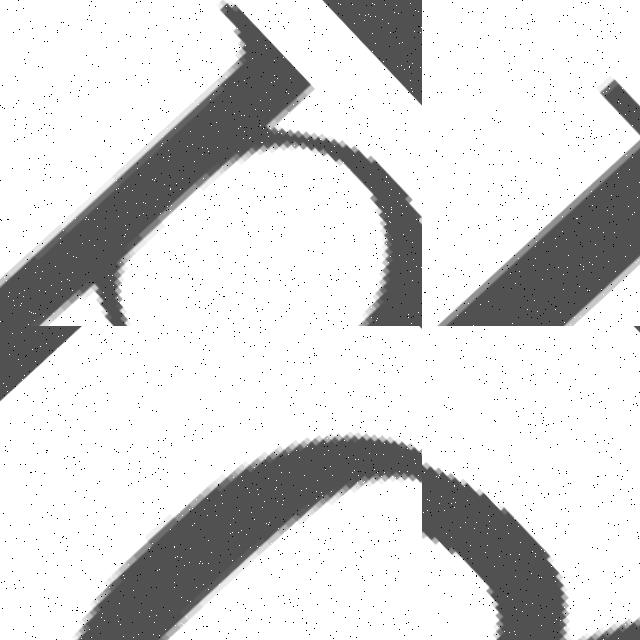0: (0, 326, 422, 640)
D: (422, 326, 640, 640)
L: (422, 14, 640, 326)
P: (0, 0, 422, 326)
